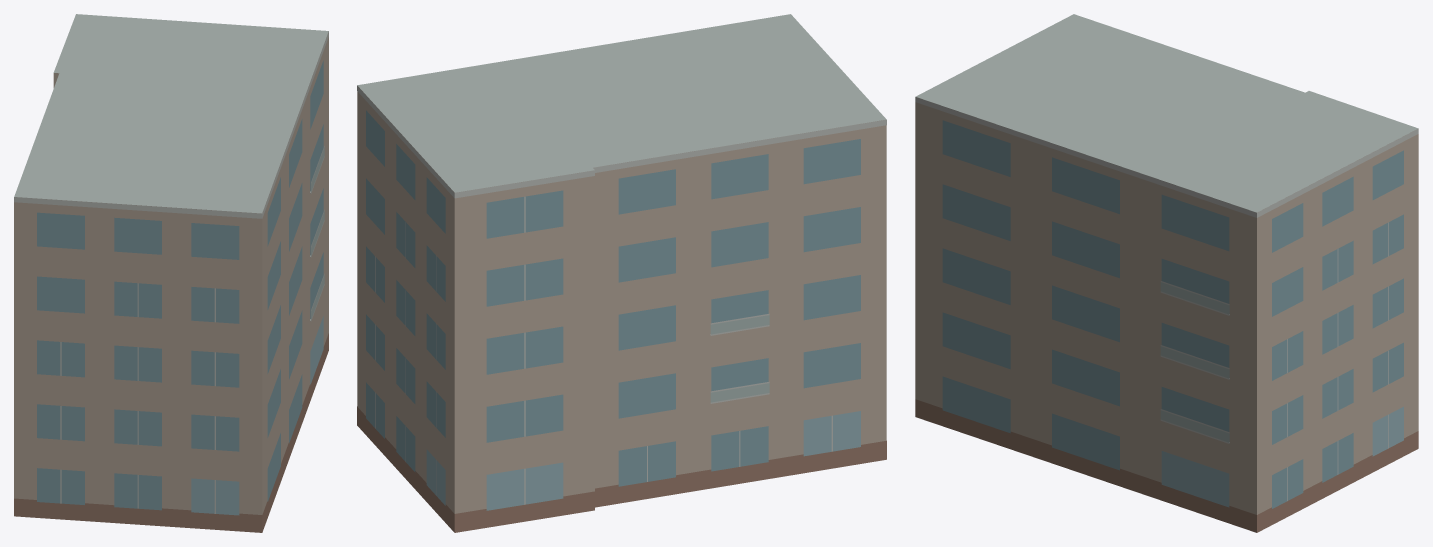
Rendered from survey-upis-32871230.glb.
3 views of the same model, side by side, from view 1: azimuth 30°, elevation 25°; view 2: azimuth 150°, elevation 25°; view 3: azimuth 270°, elevation 25° (orthographic). The views are drawn at different scales.
Visible parts, largest first — view 1: survey-upis-32871230.tmp; view 2: survey-upis-32871230.tmp; view 3: survey-upis-32871230.tmp.
Part boxes in pixels (<box>): survey-upis-32871230.tmp: <box>14,14,328,532</box>; survey-upis-32871230.tmp: <box>357,14,886,532</box>; survey-upis-32871230.tmp: <box>915,14,1418,532</box>.
Bounding box in the file's own units: 19.43 × 14.6 × 20.8.
